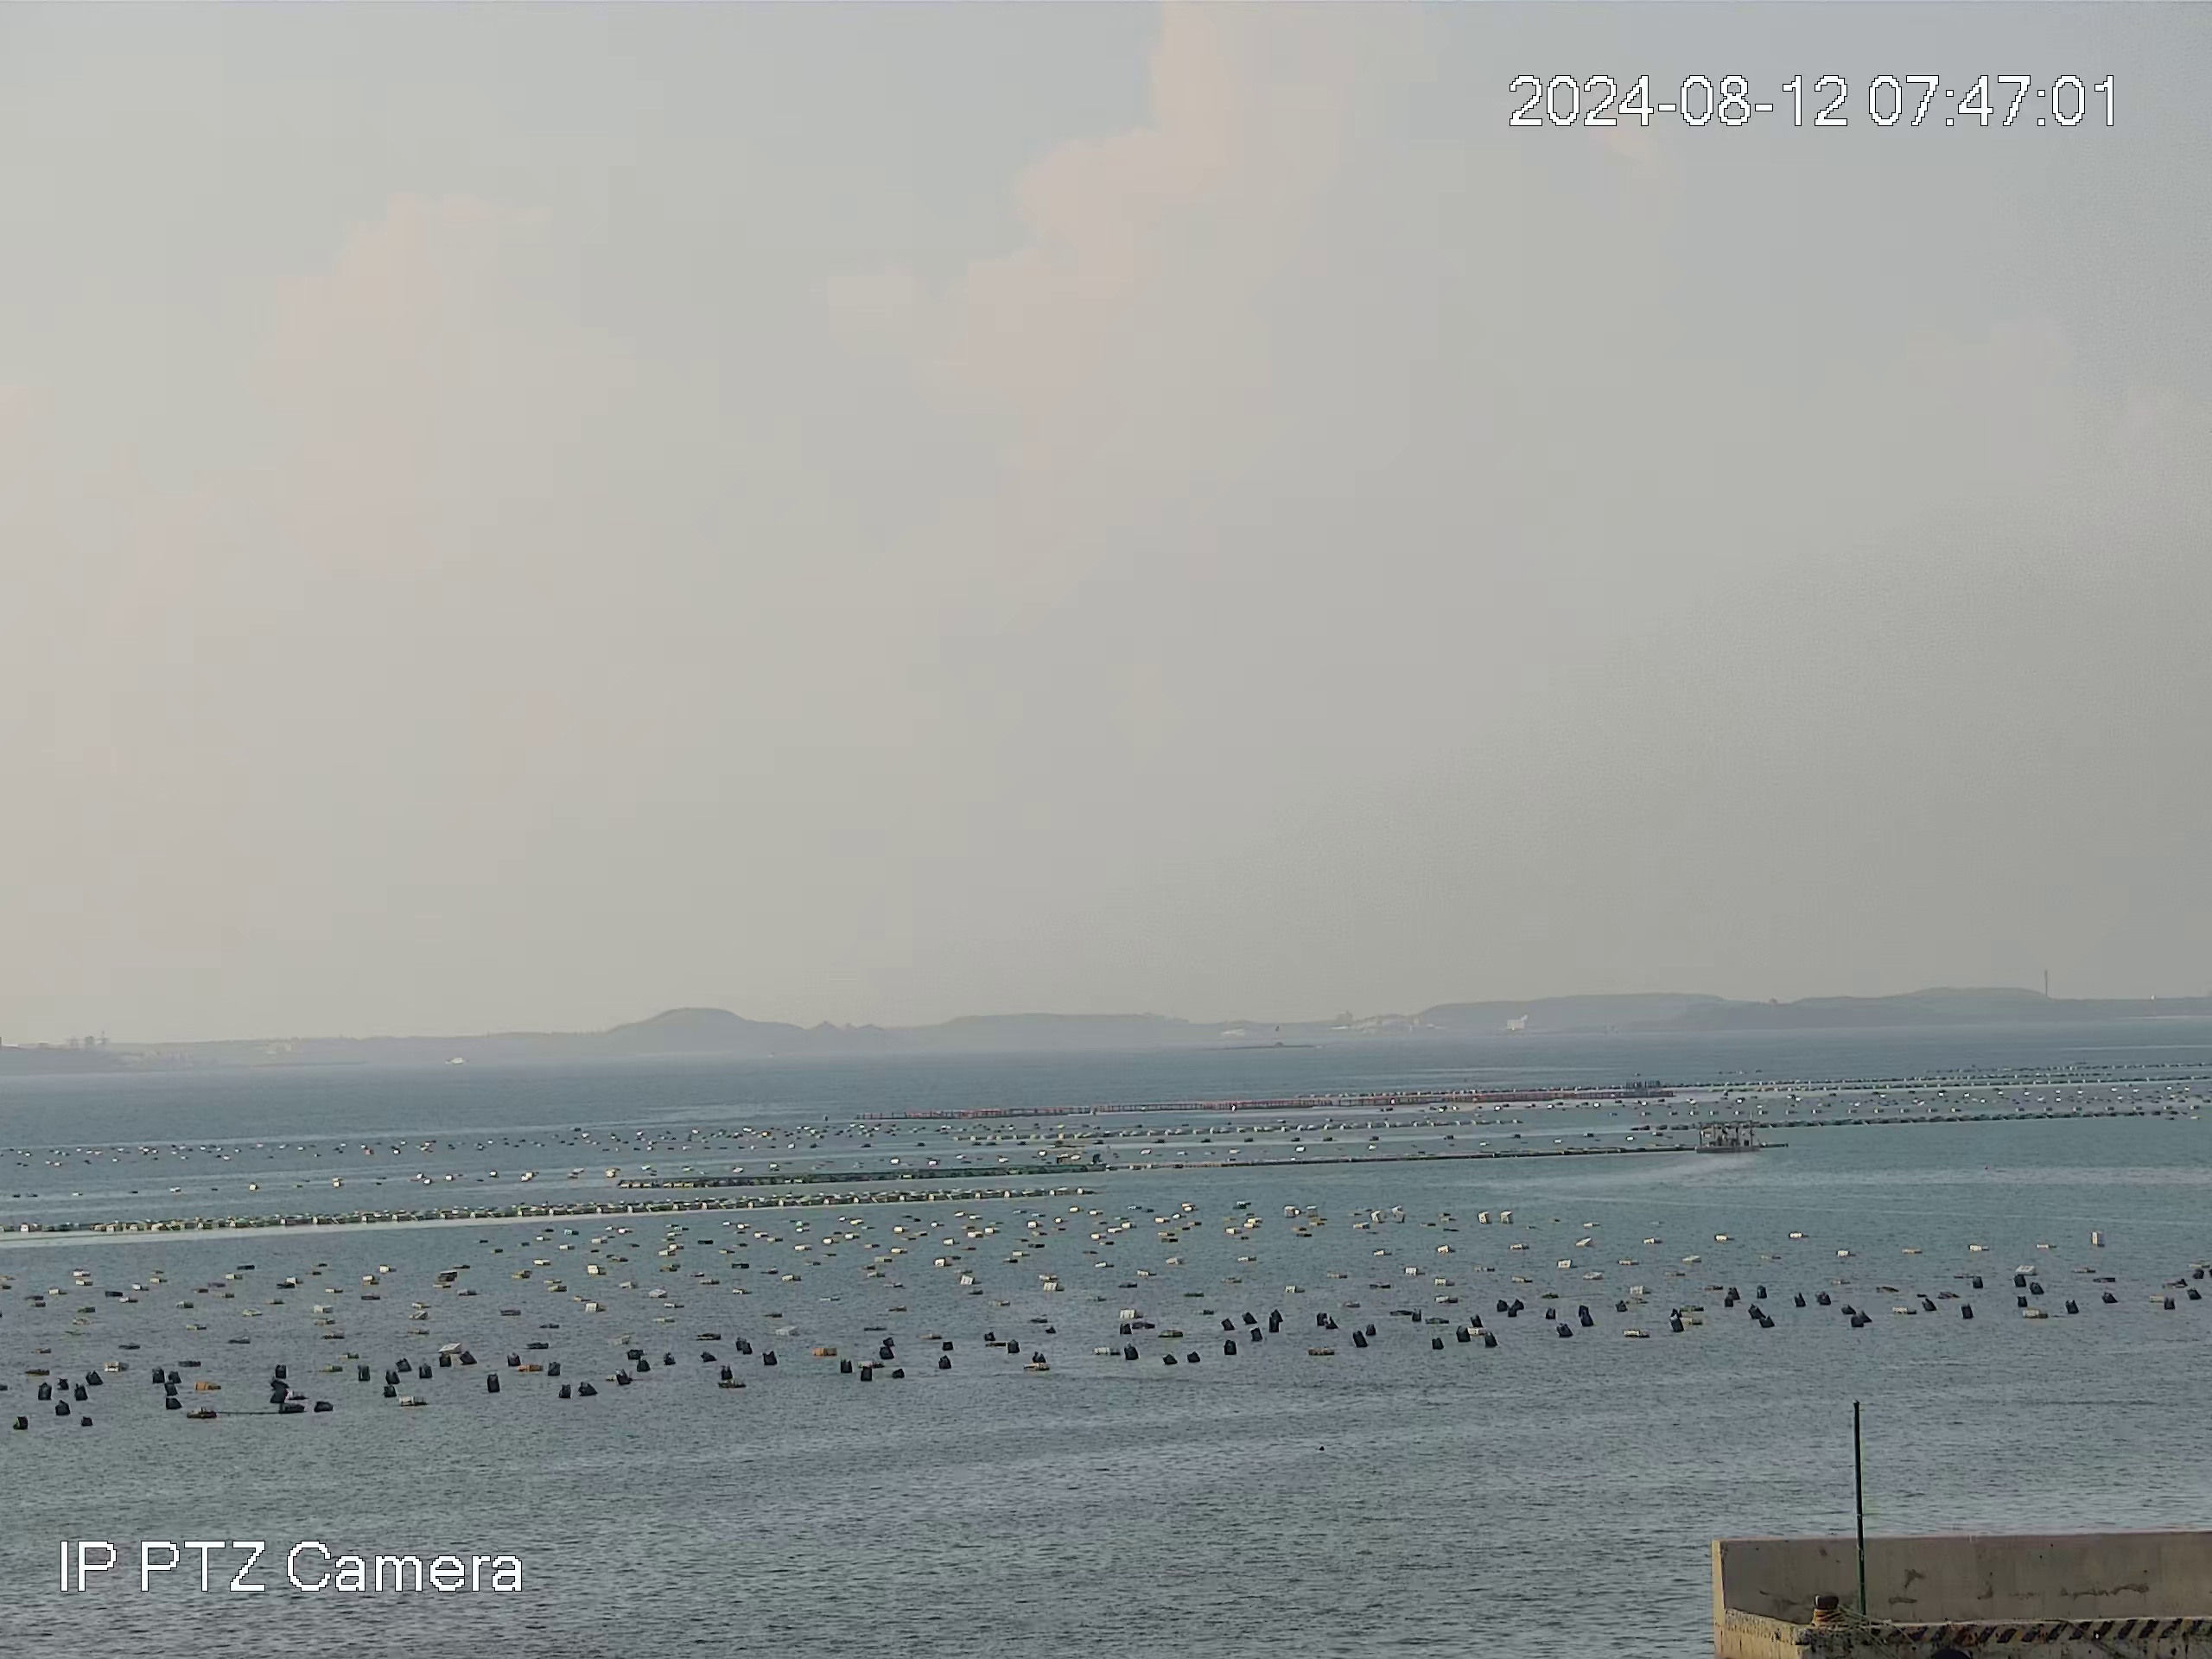boat: (1695, 1121, 1761, 1154)
